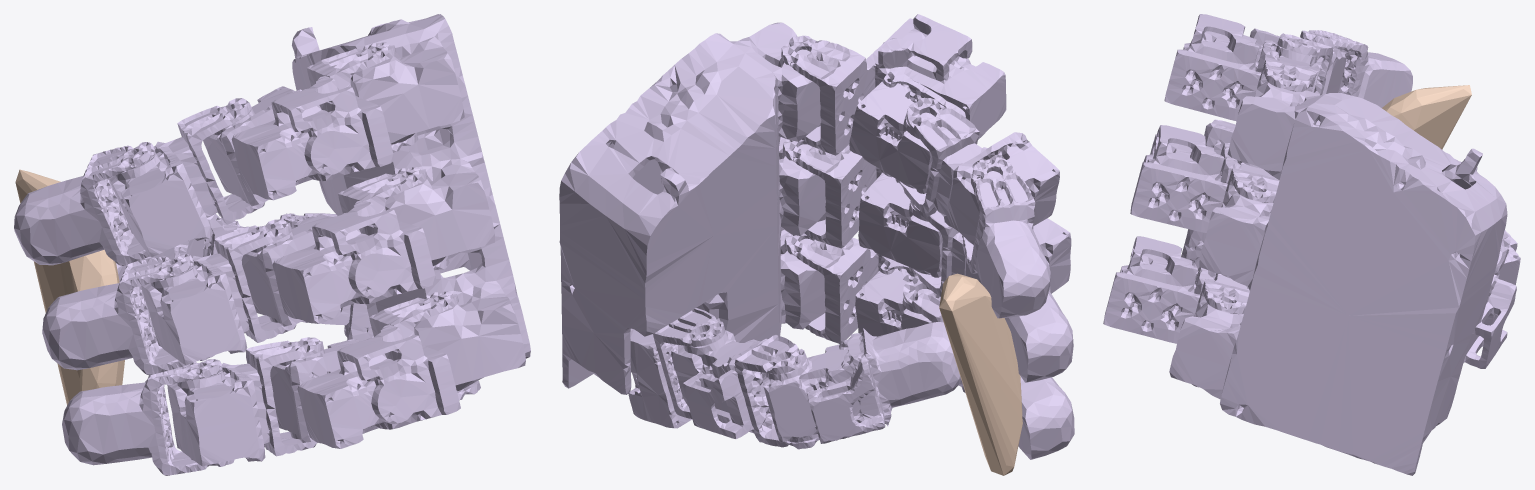
The picture shows the model from 3 angles, left to right: view 1: azimuth 30°, elevation 25°; view 2: azimuth 150°, elevation 25°; view 3: azimuth 270°, elevation 25°; orthographic projection. The views are drawn at different scales.
Parts seen in each view (by area): view 1: LEAP_hand, world; view 2: LEAP_hand, world; view 3: LEAP_hand, world.
Part boxes in pixels (x1,y1,x2,y2): LEAP_hand: [14, 14, 530, 475]; world: [15, 169, 124, 405]; LEAP_hand: [559, 14, 1074, 459]; world: [939, 273, 1022, 475]; LEAP_hand: [1103, 14, 1520, 475]; world: [1382, 85, 1471, 149].
Bounding box in the file's own units: 0.1936 × 0.1438 × 0.1576.
